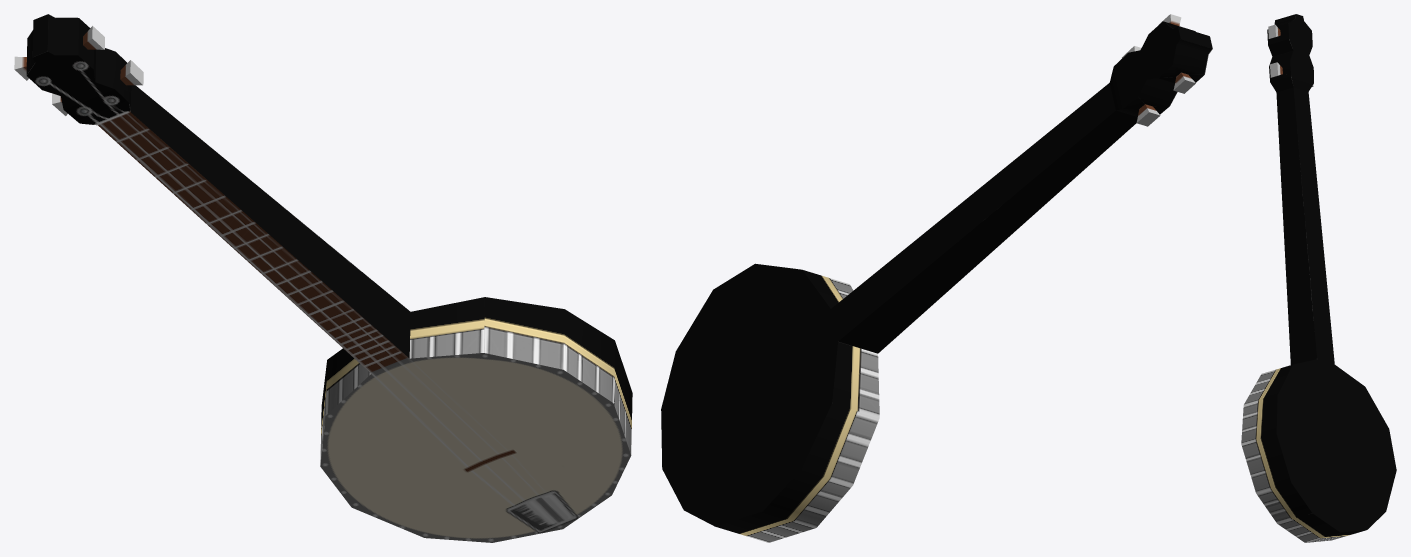
File: guitarra1_000196.obj
3 renders of one model, left to right at view 1: azimuth 30°, elevation 25°; view 2: azimuth 150°, elevation 25°; view 3: azimuth 270°, elevation 25°, orthographic. The views are drawn at different scales.
Visible parts, largest first — view 1: g1_pCube6; view 2: g1_pCube6; view 3: g1_pCube6.
Part boxes in pixels (box(x1,y1,x2,y2)): g1_pCube6: box(14, 14, 632, 542); g1_pCube6: box(661, 14, 1212, 542); g1_pCube6: box(1241, 14, 1396, 542).
Bounding box in the file's own units: 10.05 × 10.54 × 3.8.
